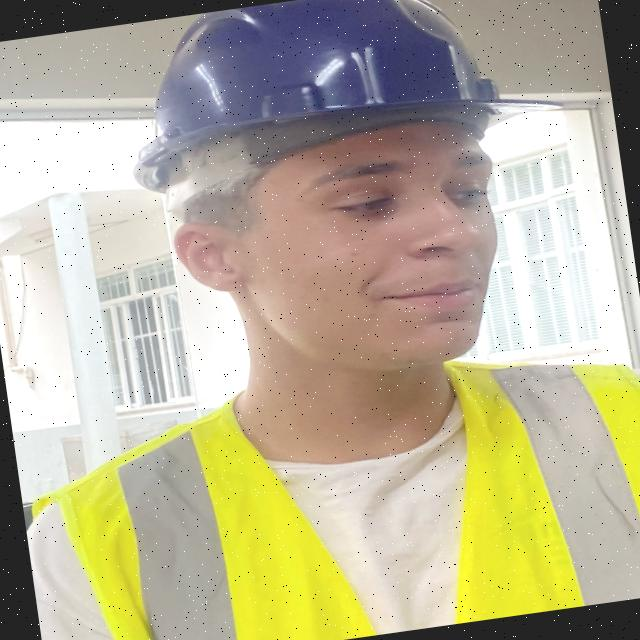CAPACETE: (131, 0, 575, 214)
COLETE: (25, 346, 640, 640)
